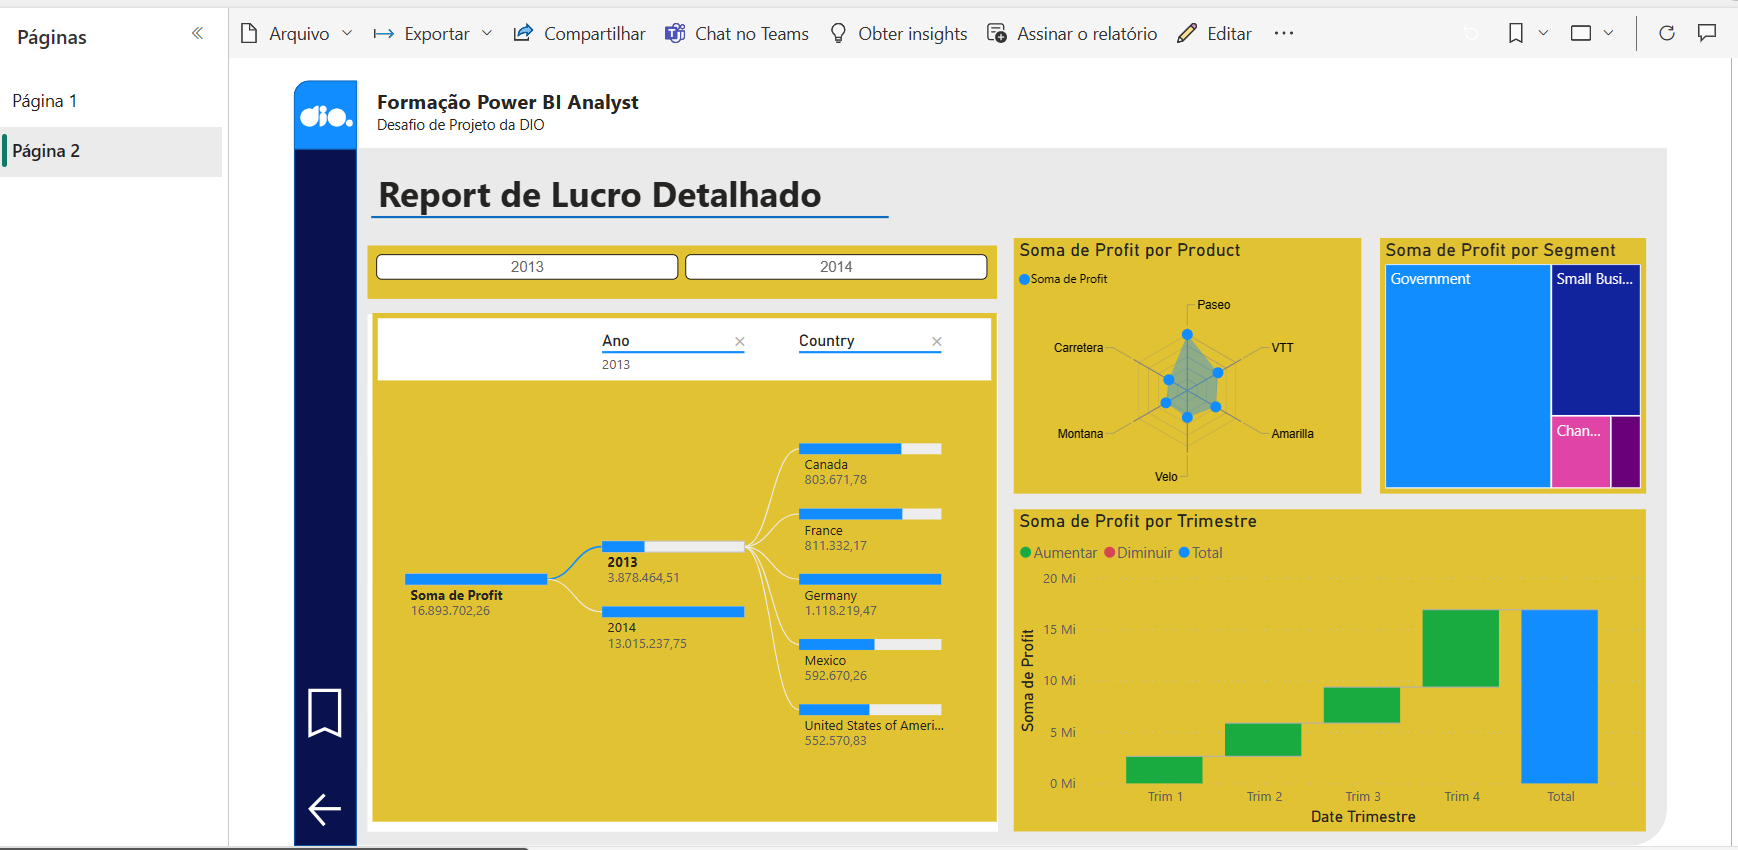

The page's visual inventory and layout, read from the dashboard file:
{"tool":"powerbi","page":{"name":"Página 2","canvas":[1280,720],"ordinal":1},"visuals":[{"type":"shape","box":[42.6,20.7,1225.3,699.3],"z":0},{"type":"shape","box":[83.9,127.8,473,37.1],"z":0,"group":"g1"},{"type":"textbox","box":[85.3,97.6,470.2,52.2],"z":1000,"group":"g1"},{"type":"shape","box":[12.4,20.2,57.7,699.8],"z":1000},{"type":"shape","box":[12.4,20.6,57.7,63.2],"z":2000},{"type":"image","box":[13.7,33,57.7,39.9],"z":3000},{"type":"shape","title":"Fundo do Título","box":[71.5,20.6,1198.9,61.9],"z":4000},{"type":"textbox","title":"Título do report","box":[83.9,22,378.1,63.2],"z":5000},{"type":"shape","box":[79.7,233.7,576.1,473],"z":6000},{"type":"decompositionTreeVisual","fields":{"Analyze":["Sum(financials.Profit)"],"ExplainBy":["financials.Date.Variation.Hierarquia de datas.Ano","financials.Country"]},"box":[84.8,233.6,570.5,464.8],"z":7000},{"type":"waterfallChart","fields":{"Category":["financials.Date.Variation.Hierarquia de datas.Trimestre"],"Y":["Sum(financials.Profit)"]},"box":[670.9,412.5,577.4,294.2],"z":8000},{"type":"ChicletSlicer1448559807354","fields":{"Category":["financials.Date.Variation.Hierarquia de datas.Ano"]},"box":[80.2,170.8,575.2,48.8],"z":9000},{"type":"RadarChart1446119667547","fields":{"Category":["financials.Product"],"Y":["Sum(financials.Profit)"]},"box":[670.9,165,317.6,233.7],"z":10000},{"type":"treemap","fields":{"Values":["Sum(financials.Profit)"],"Group":["financials.Segment"]},"box":[1005,165,243.4,233.7],"z":11000},{"type":"actionButton","box":[22,666.8,48.1,39.9],"z":12000},{"type":"group","id":"g1","title":"Sales report","box":[83.9,97.6,473,67.4],"z":13000},{"type":"actionButton","box":[12.8,545.8,57,105.5],"z":14000}]}

Visuals, with their boxes on the page's 1280x720 design canvas (x1, y1, x2, y2). These are canvas units, not pixel positions in the 1738x850 screenshot, which may show the page scaled, cropped or inside an application window:
shape: <region>43, 21, 1268, 720</region>
shape: <region>84, 128, 557, 165</region>
textbox: <region>85, 98, 556, 150</region>
shape: <region>12, 20, 70, 720</region>
shape: <region>12, 21, 70, 84</region>
image: <region>14, 33, 71, 73</region>
"Fundo do Título" shape: <region>72, 21, 1270, 82</region>
"Título do report" textbox: <region>84, 22, 462, 85</region>
shape: <region>80, 234, 656, 707</region>
decompositionTreeVisual - Sum(financials.Profit) x financials.Date.Variation.Hierarquia de datas.Ano: <region>85, 234, 655, 698</region>
waterfallChart - financials.Date.Variation.Hierarquia de datas.Trimestre x Sum(financials.Profit): <region>671, 412, 1248, 707</region>
ChicletSlicer1448559807354 - financials.Date.Variation.Hierarquia de datas.Ano: <region>80, 171, 655, 220</region>
RadarChart1446119667547 - financials.Product x Sum(financials.Profit): <region>671, 165, 988, 399</region>
treemap - Sum(financials.Profit) x financials.Segment: <region>1005, 165, 1248, 399</region>
actionButton: <region>22, 667, 70, 707</region>
"Sales report" group: <region>84, 98, 557, 165</region>
actionButton: <region>13, 546, 70, 651</region>
